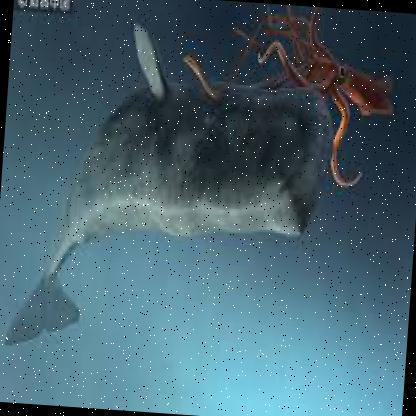sperm_whale: (8, 56, 336, 374)
